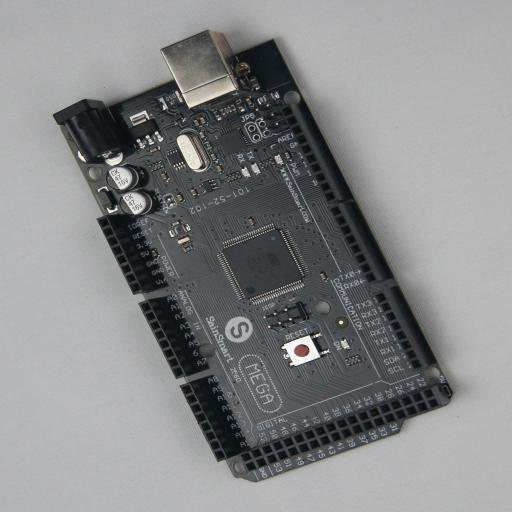Arduino Mega 2560 -Black-: (52, 30, 456, 482)
